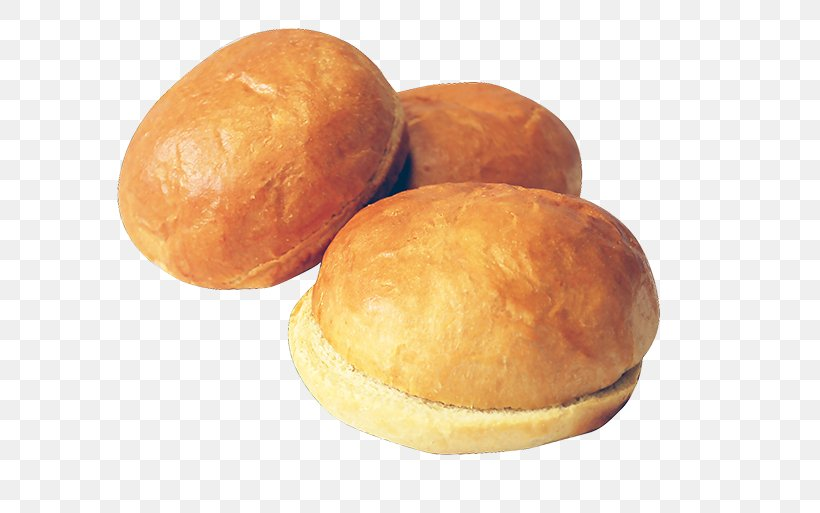hamburger_buns: (125, 31, 688, 451)
